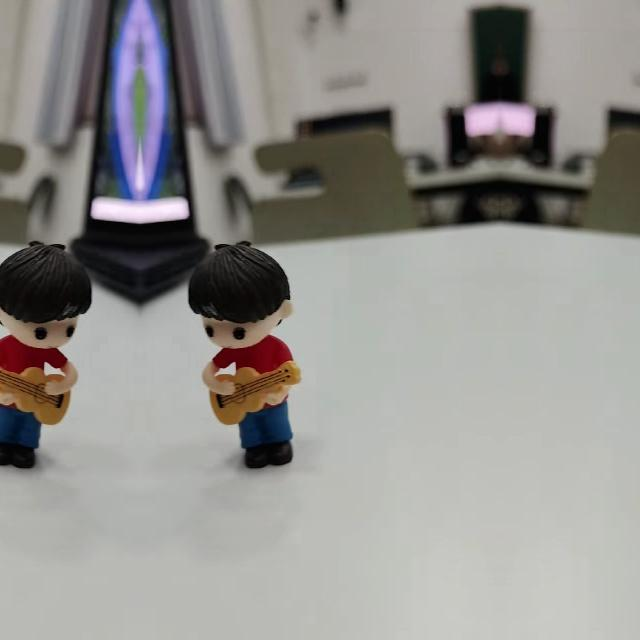man cloth: (212, 345, 296, 373), (0, 345, 68, 373)
man head: (187, 244, 293, 354), (0, 244, 93, 353)
trousers: (236, 396, 298, 458), (0, 396, 44, 458)
